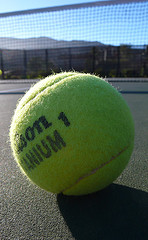tennis ball: (10, 68, 134, 197)
